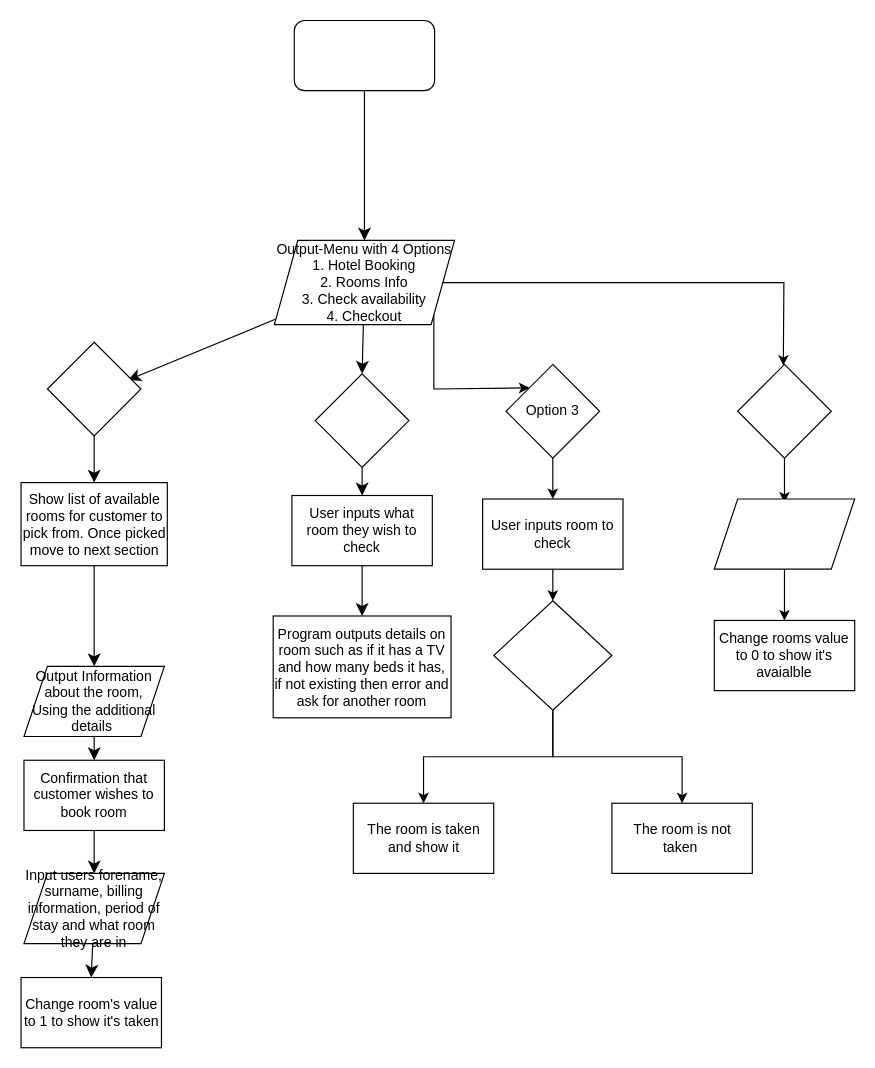
Some shapes in this 875 by 1068 pixel diagram are drawn without their labels. The centre of each missing label's shape, as x and y in pixels:
Check if the name and room number are being used: the point at 784,533
Is the room existing and is it taken: the point at 552,655
Option 1 is chosen: the point at 93,388
Option 2 is Chosen: the point at 361,420
option 4: the point at 784,410
Start: the point at 364,55
